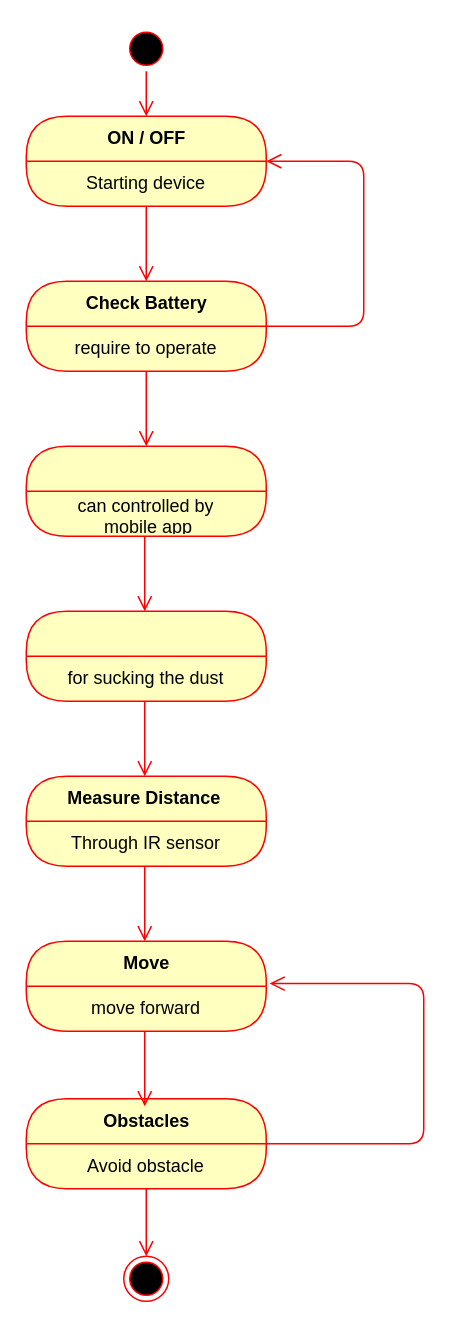
The diagram is 465 pixels wide and 1328 high, and some of its shapes have lost their labels. The box of each missing label's shape, as (x1, y1, x2, y2) in pixels:
Connect to WiFi: (25, 445, 266, 536)
Start Fan: (25, 610, 266, 701)
